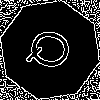Q: (25, 25, 82, 75)
